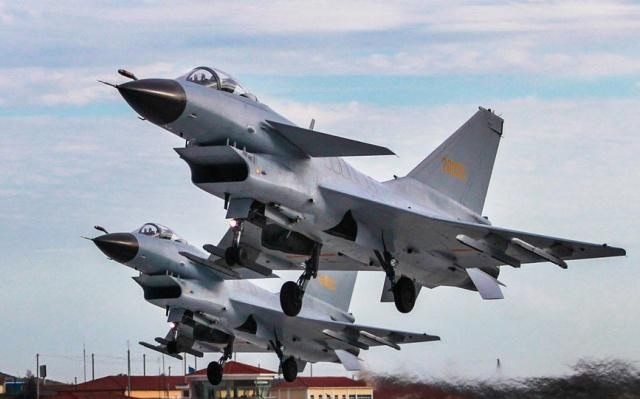airplane: (96, 52, 634, 300), (78, 213, 443, 388)
